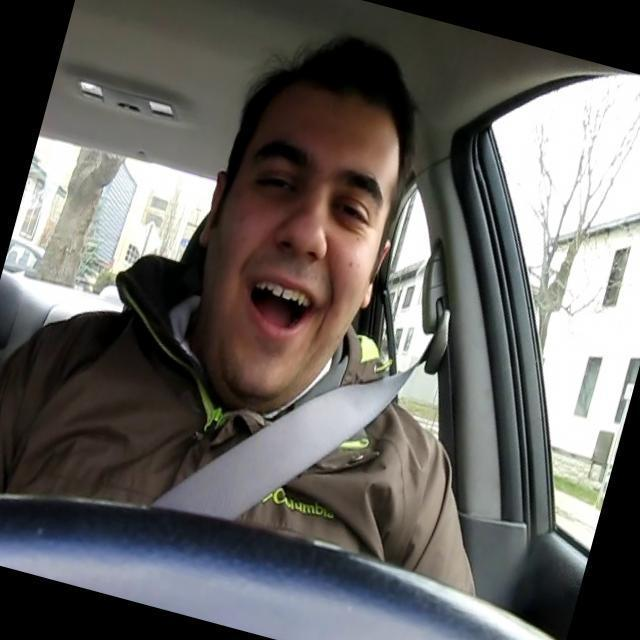open-mouth: (242, 272, 314, 344)
